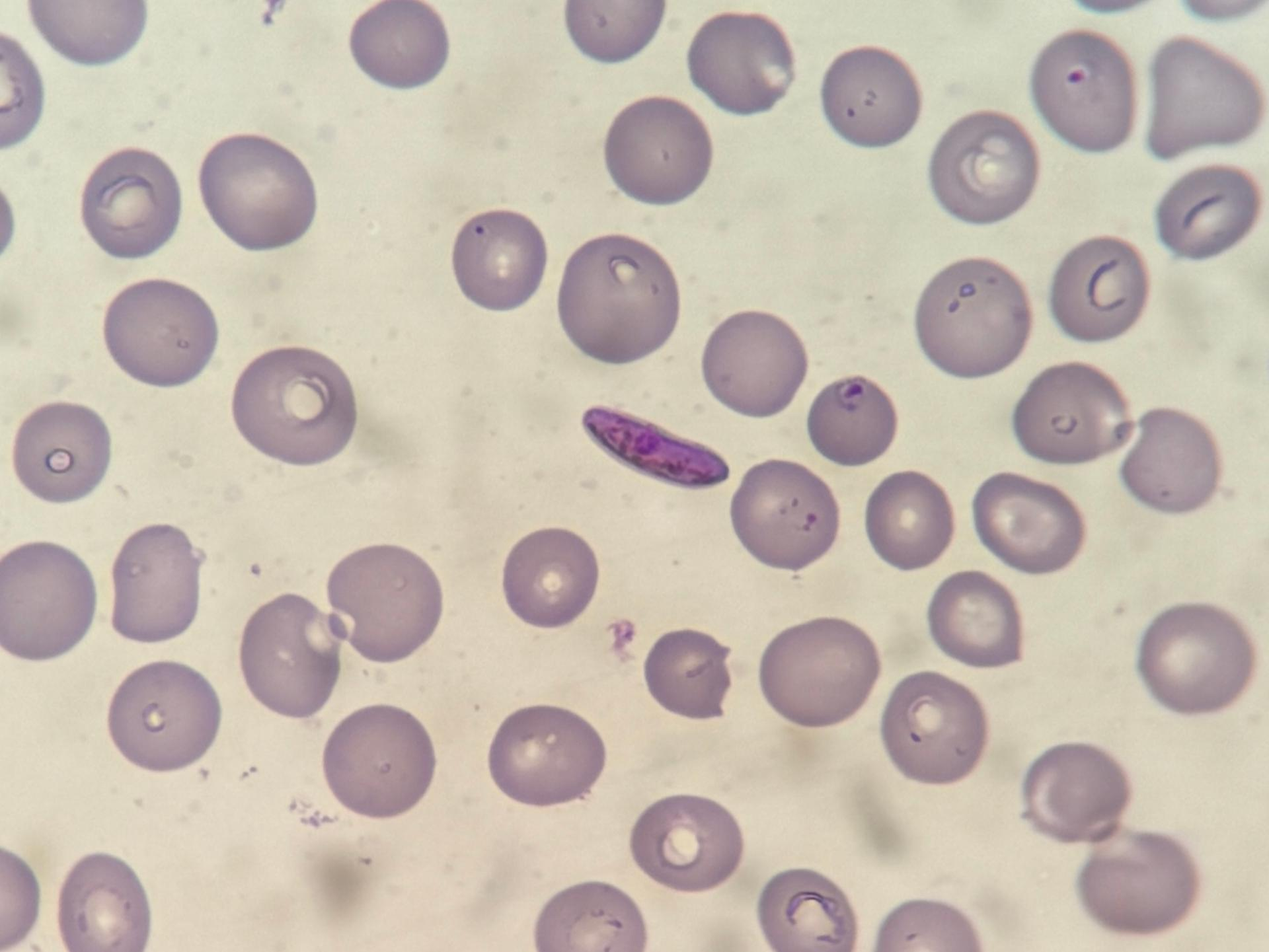Infected: (586, 404, 730, 487), (807, 373, 898, 463)
Uninfected: (555, 232, 684, 364), (230, 347, 356, 464), (1145, 36, 1262, 156), (198, 134, 318, 250), (915, 258, 1032, 376), (327, 545, 443, 661), (1135, 603, 1254, 713), (758, 619, 878, 727), (928, 109, 1038, 223), (1032, 29, 1137, 148), (1075, 829, 1196, 932), (322, 706, 436, 815), (102, 278, 217, 386), (239, 596, 343, 715), (729, 460, 842, 569), (487, 706, 606, 807), (106, 664, 217, 772), (602, 97, 712, 205), (1013, 361, 1129, 463), (880, 673, 988, 781), (974, 470, 1087, 572), (629, 793, 744, 893), (79, 147, 182, 258), (701, 312, 808, 418), (0, 543, 96, 660), (111, 524, 206, 642), (1020, 743, 1129, 844), (1046, 236, 1149, 342), (688, 12, 794, 113), (11, 401, 111, 506), (500, 527, 601, 629), (1120, 408, 1219, 511), (450, 207, 548, 309), (1155, 163, 1260, 258), (821, 44, 921, 143), (927, 569, 1025, 667), (57, 854, 151, 951), (868, 472, 955, 573), (348, 1, 449, 87), (757, 870, 862, 950), (643, 628, 733, 717)
